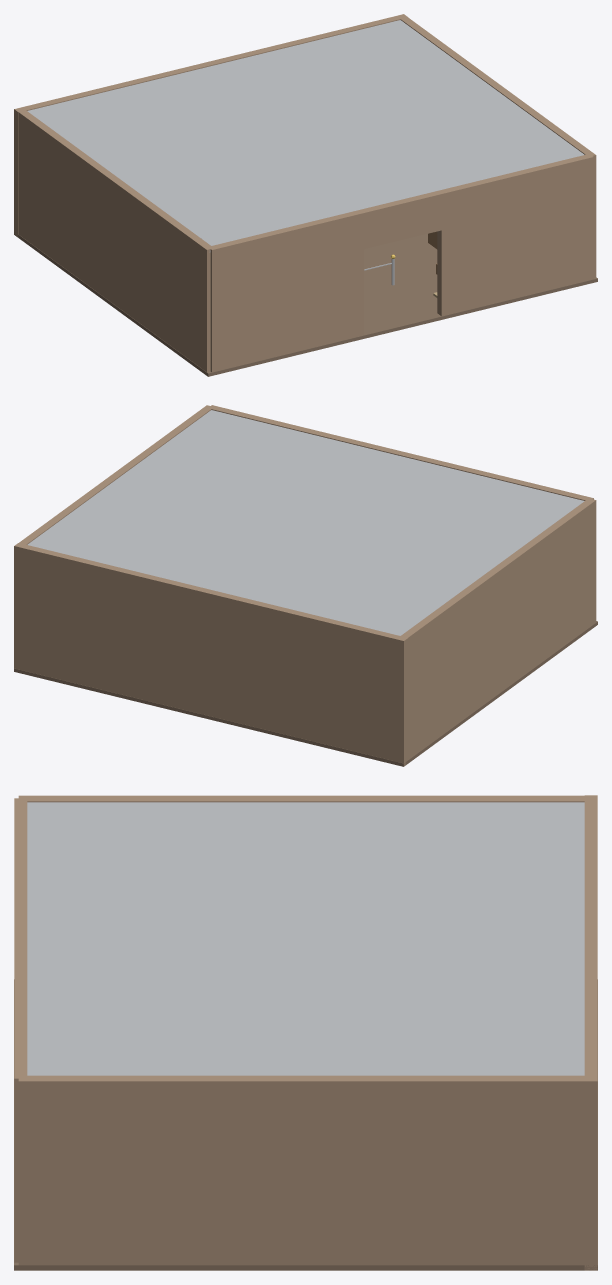
The model's file is interior-vault.glb.
The picture shows the model from 3 angles, top to bottom: view 1: azimuth 30°, elevation 25°; view 2: azimuth 150°, elevation 25°; view 3: azimuth 270°, elevation 25°; orthographic projection. The views are drawn at different scales.
Visible parts, largest first — view 1: room.vault.wall, room.vault.metal, room.vault.floor; view 2: room.vault.wall, room.vault.metal, room.vault.floor; view 3: room.vault.metal, room.vault.wall, room.vault.floor.
Boxes of the visible parts, x1,y1,x2,y2 form: room.vault.wall: (14,14,596,372); room.vault.metal: (27,20,584,285); room.vault.floor: (14,232,597,376); room.vault.wall: (14,405,596,766); room.vault.metal: (27,410,584,635); room.vault.floor: (14,621,597,766); room.vault.metal: (27,802,584,1075); room.vault.wall: (14,795,597,1270); room.vault.floor: (14,979,597,1270).
Bounding box in the file's own units: 14.6 × 4.5 × 12.6.
